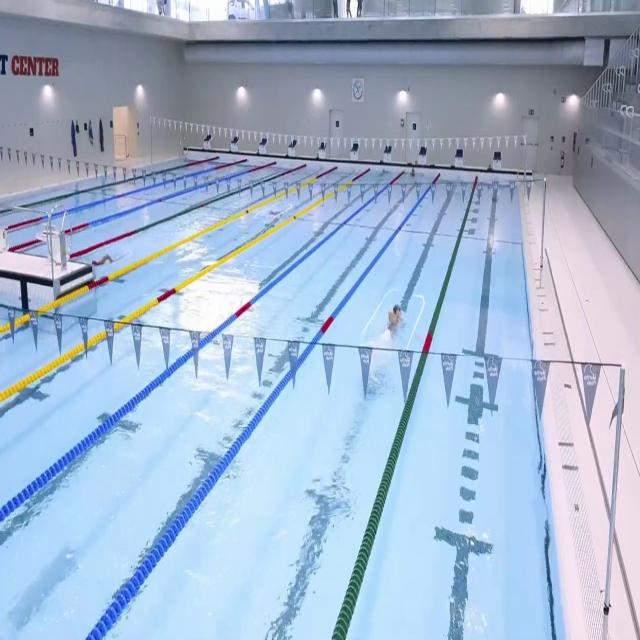Swimming: (386, 304, 408, 346), (90, 251, 128, 267), (267, 202, 290, 218)
